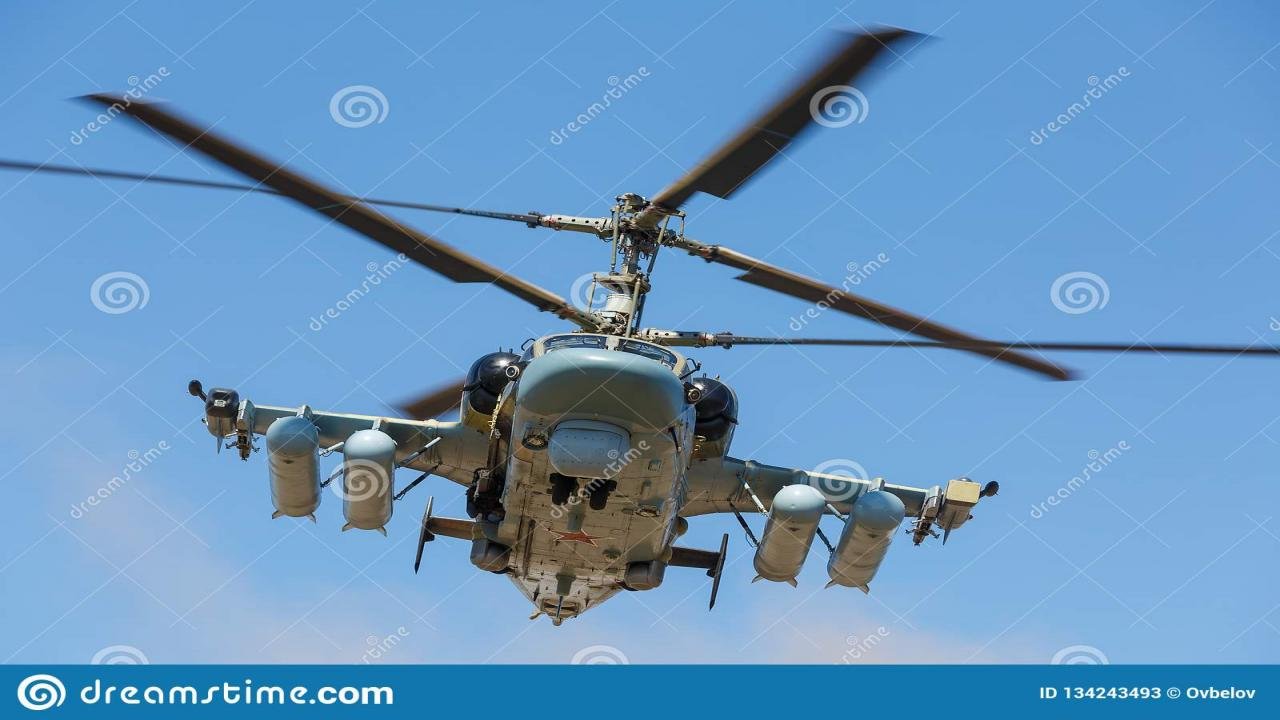Helicopter: (0, 17, 1280, 636)
